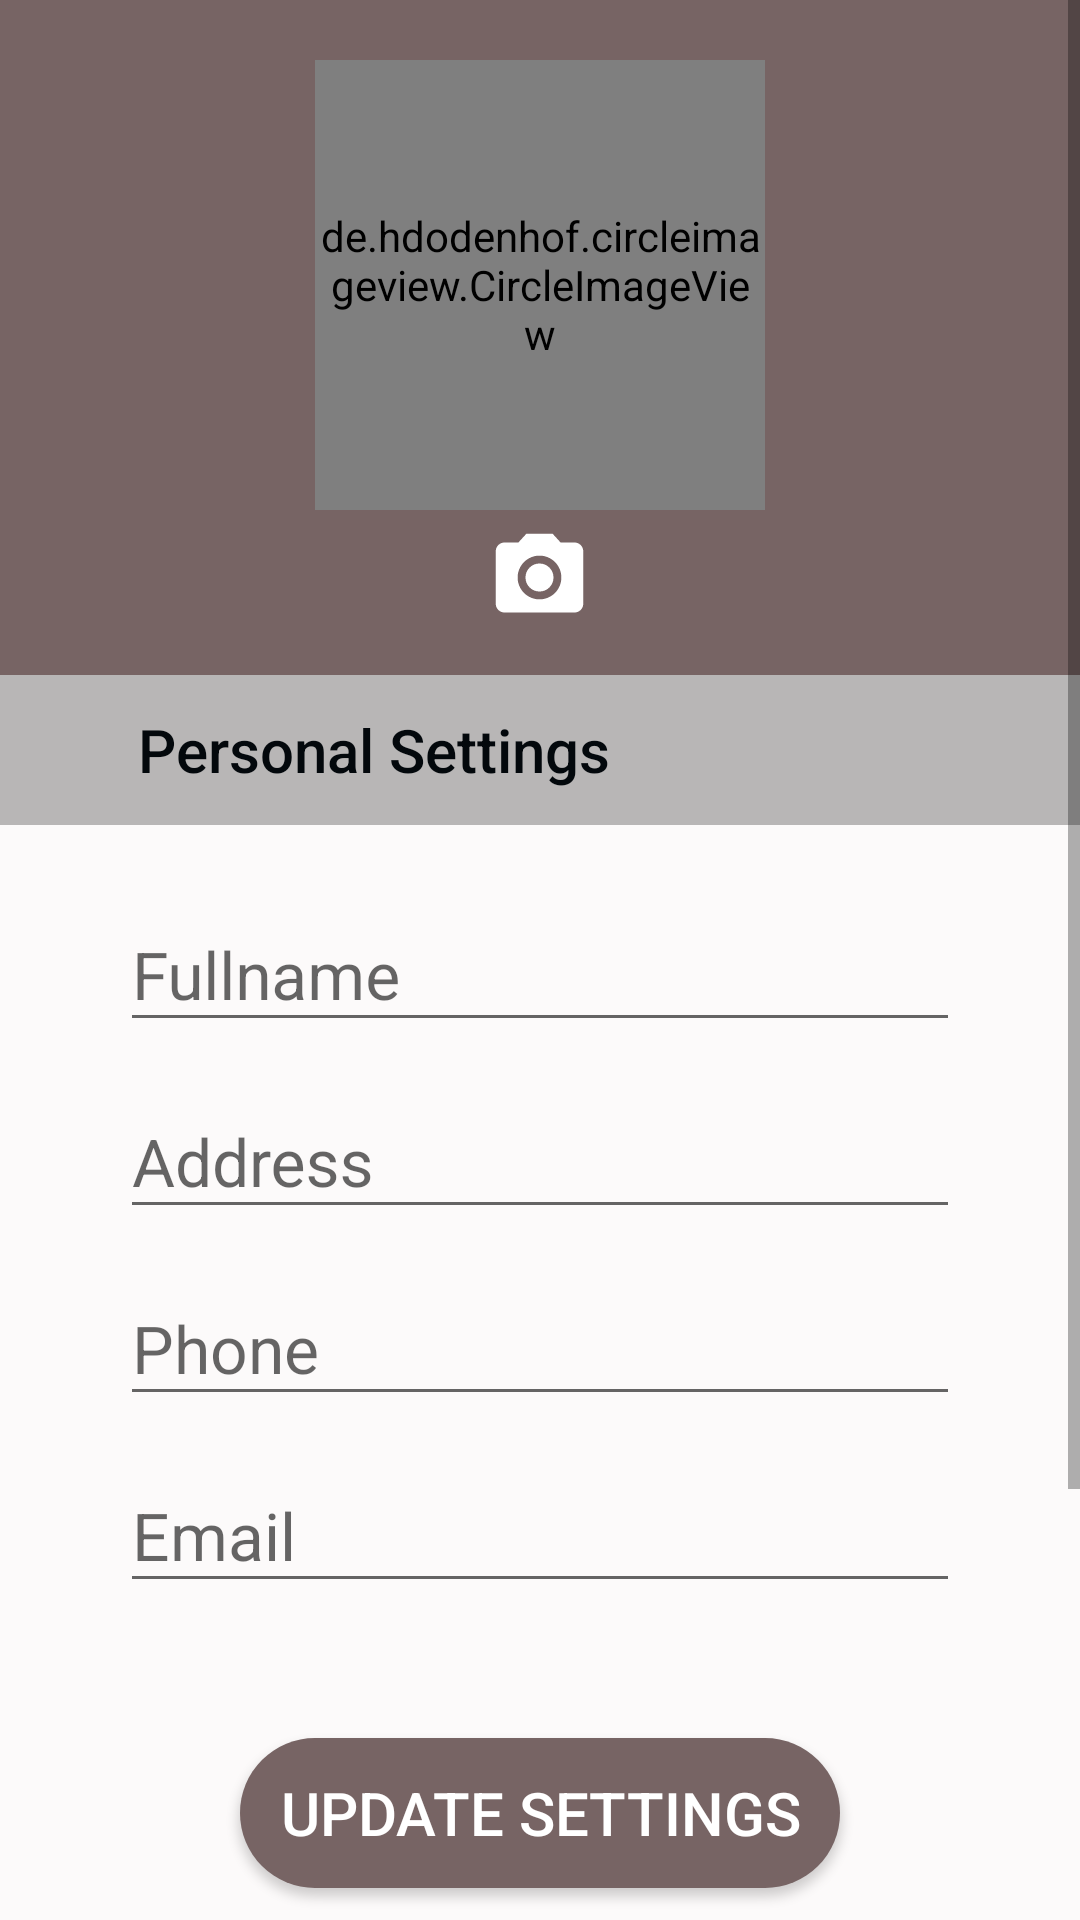

Icon bounding boxes for this 1080 x 1920 phone screenshot, format box=[x1, y1, x2, y2]:
cameraiconedit: box=[495, 533, 584, 613]
